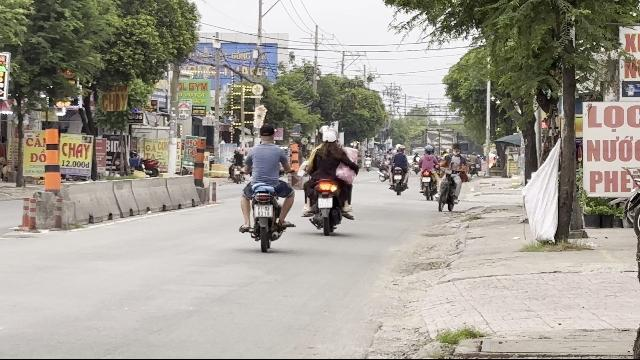helmet: (321, 130, 337, 144)
licenseplate: (255, 204, 273, 218), (318, 198, 332, 207)
motorcyclist: (236, 122, 296, 250), (301, 127, 357, 234)
nohelmet: (258, 124, 276, 144)
